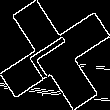L_NE: (26, 28, 84, 82)
